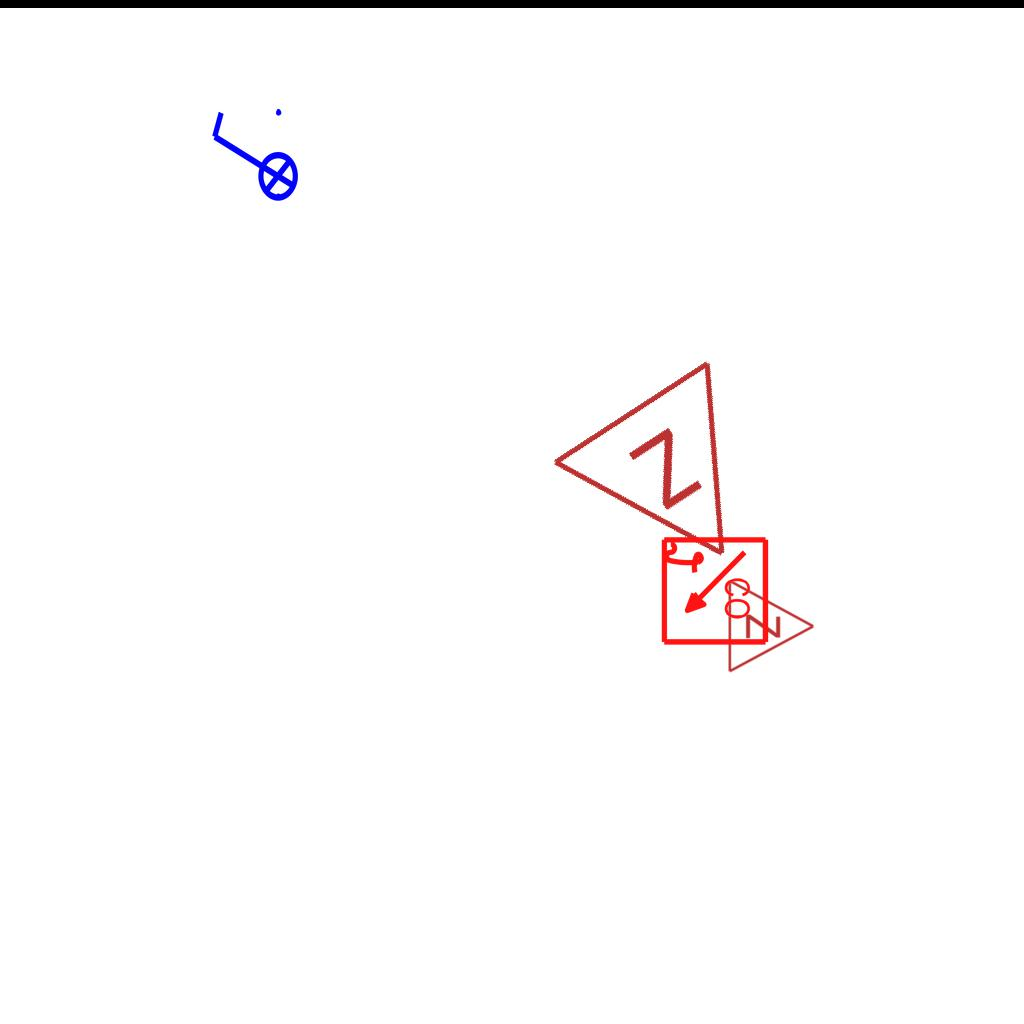Ausschalter_beleuchtet: (204, 103, 300, 215)
ROA_Rauchmelder_optisch_mit_Signalgeber_(Sockelsirene): (657, 535, 770, 648)
Zimmersignalleuchte: (541, 343, 815, 619), (721, 576, 821, 674)
